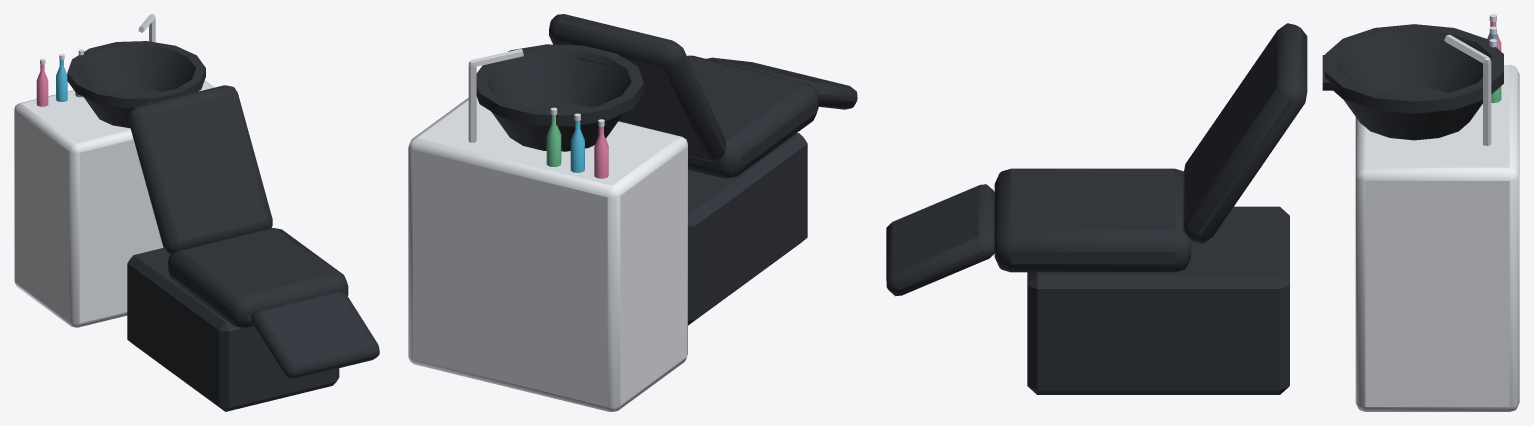
Rendered from hair_wash.glb.
3 renders of one model, left to right at view 1: azimuth 30°, elevation 25°; view 2: azimuth 150°, elevation 25°; view 3: azimuth 270°, elevation 25°, orthographic. The views are drawn at different scales.
Parts seen in each view (by area): view 1: hair_wash; view 2: hair_wash; view 3: hair_wash.
Part boxes in pixels (box(x1,y1,x2,y2)): hair_wash: box(14, 14, 379, 411); hair_wash: box(408, 14, 857, 411); hair_wash: box(886, 14, 1519, 411).
Size of the model in its own units: 0.8 by 1.13 by 1.93.
